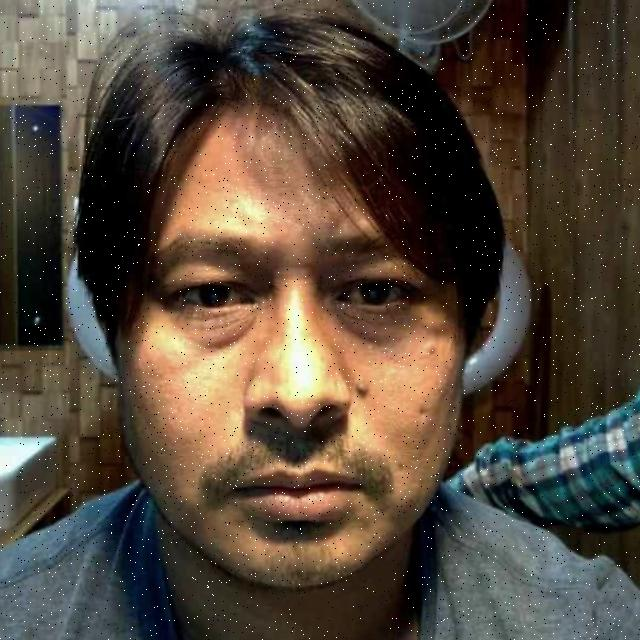puffy_eyes: (330, 315, 411, 343), (178, 322, 257, 348)
